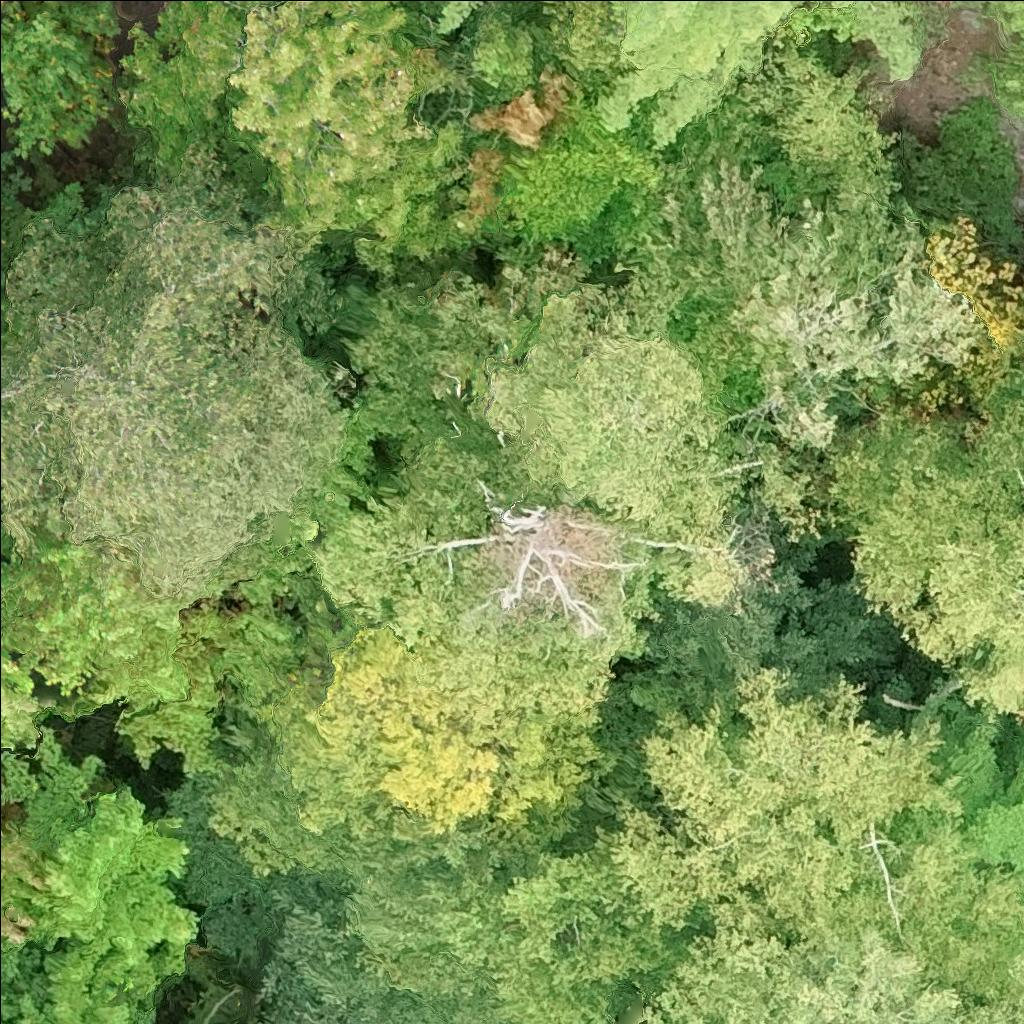crown: (0, 148, 350, 594), (600, 668, 1023, 995), (302, 440, 746, 725), (118, 0, 478, 279), (0, 508, 303, 776), (264, 616, 600, 846), (719, 199, 986, 454), (828, 403, 1023, 721), (485, 288, 729, 534), (0, 727, 199, 1010), (636, 896, 1023, 1023), (599, 0, 924, 146), (496, 72, 672, 261), (735, 39, 900, 208), (0, 0, 117, 157), (466, 65, 574, 220), (0, 937, 157, 1023), (699, 159, 789, 295), (530, 0, 630, 91), (0, 588, 40, 751), (0, 818, 45, 953), (980, 358, 1023, 428), (993, 39, 1023, 116), (437, 0, 481, 37), (991, 0, 1023, 39), (0, 527, 11, 540)
